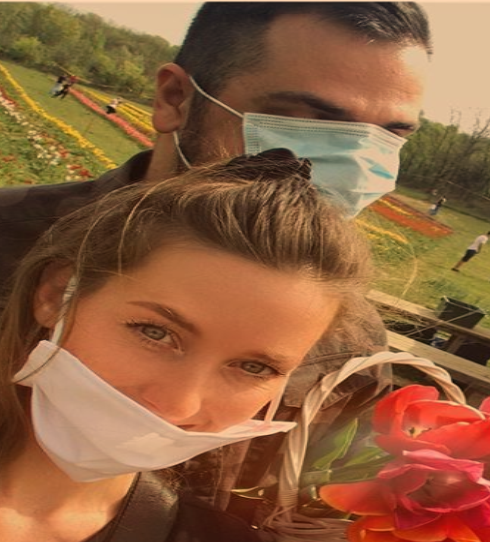mask_weared_incorrect: (19, 190, 343, 482), (152, 2, 442, 224)
